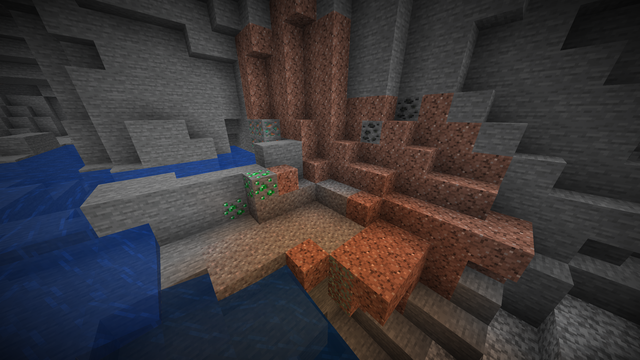coal: (360, 96, 422, 143)
copper: (248, 117, 280, 142)
emerald: (223, 168, 279, 224)
